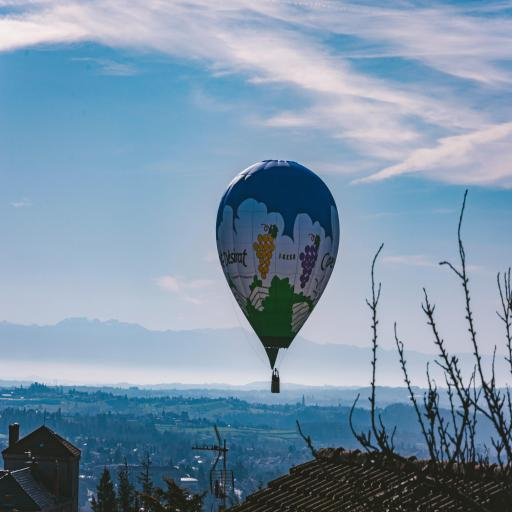hot air ballon: (212, 154, 342, 394)
